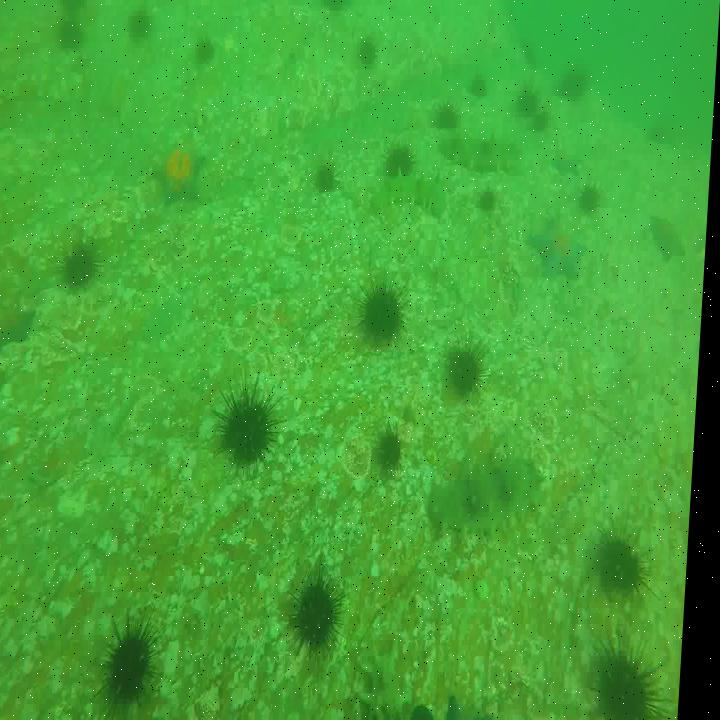echinus: (597, 644, 674, 720), (107, 627, 169, 711), (223, 387, 282, 469), (294, 573, 352, 656), (601, 526, 657, 605), (361, 281, 410, 347), (451, 337, 490, 397), (55, 0, 94, 54), (63, 240, 104, 287), (381, 420, 412, 475), (383, 141, 421, 180), (128, 5, 158, 48), (514, 82, 542, 127), (433, 100, 466, 138), (316, 162, 345, 200), (195, 32, 219, 71), (476, 182, 502, 218), (580, 184, 606, 218), (356, 36, 381, 71), (528, 102, 554, 135)
holothurian: (433, 452, 554, 533), (366, 643, 420, 720), (436, 135, 530, 172), (367, 175, 450, 215)
starfish: (530, 215, 593, 283), (150, 144, 209, 210), (648, 212, 690, 263), (0, 307, 40, 358), (552, 148, 587, 176)
